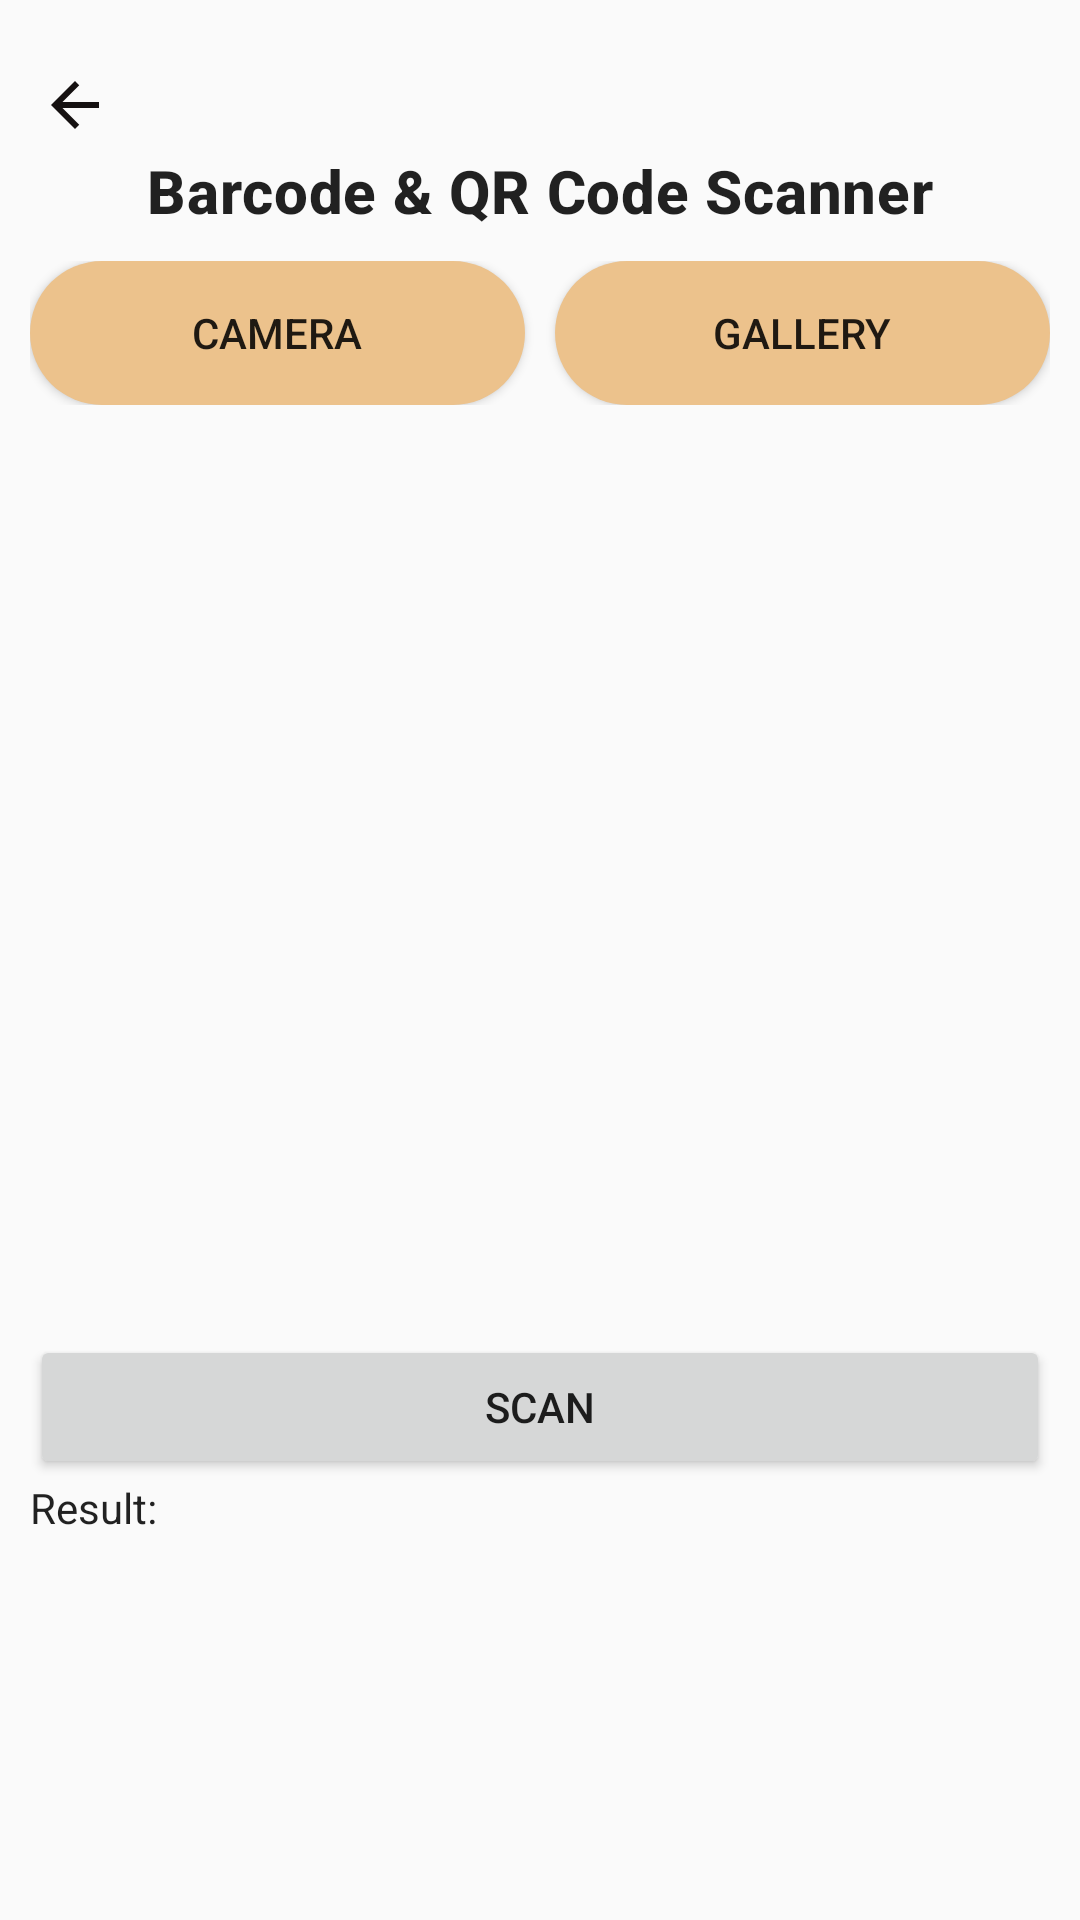

Screen size 1080×1920. Icon name, then its center in pixels as point (x, y):
back: point (75, 105)
